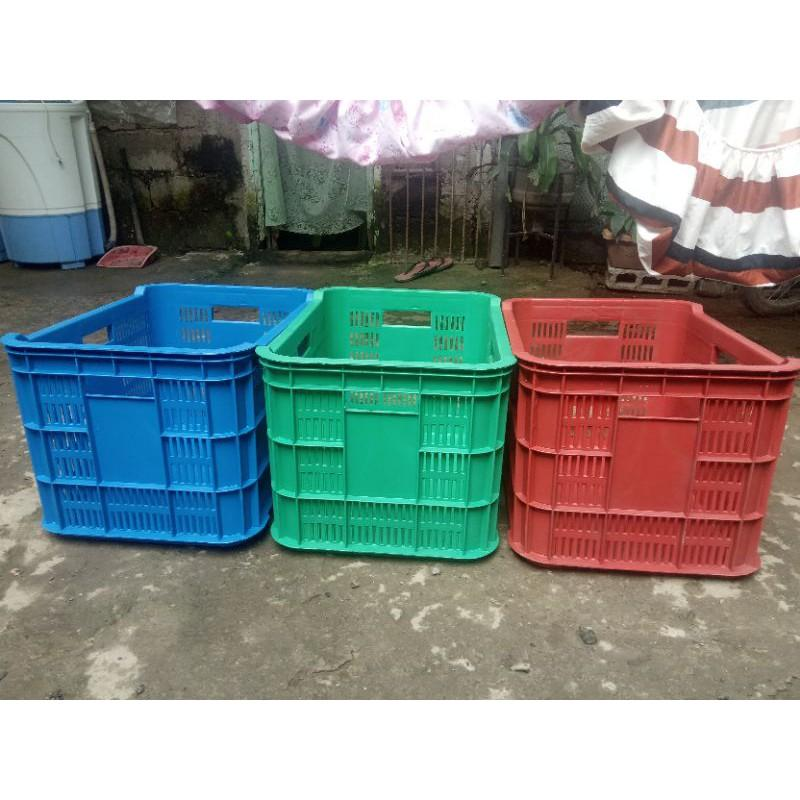plastic: (503, 298, 799, 576), (2, 284, 303, 544), (258, 287, 512, 559), (657, 100, 799, 313)
